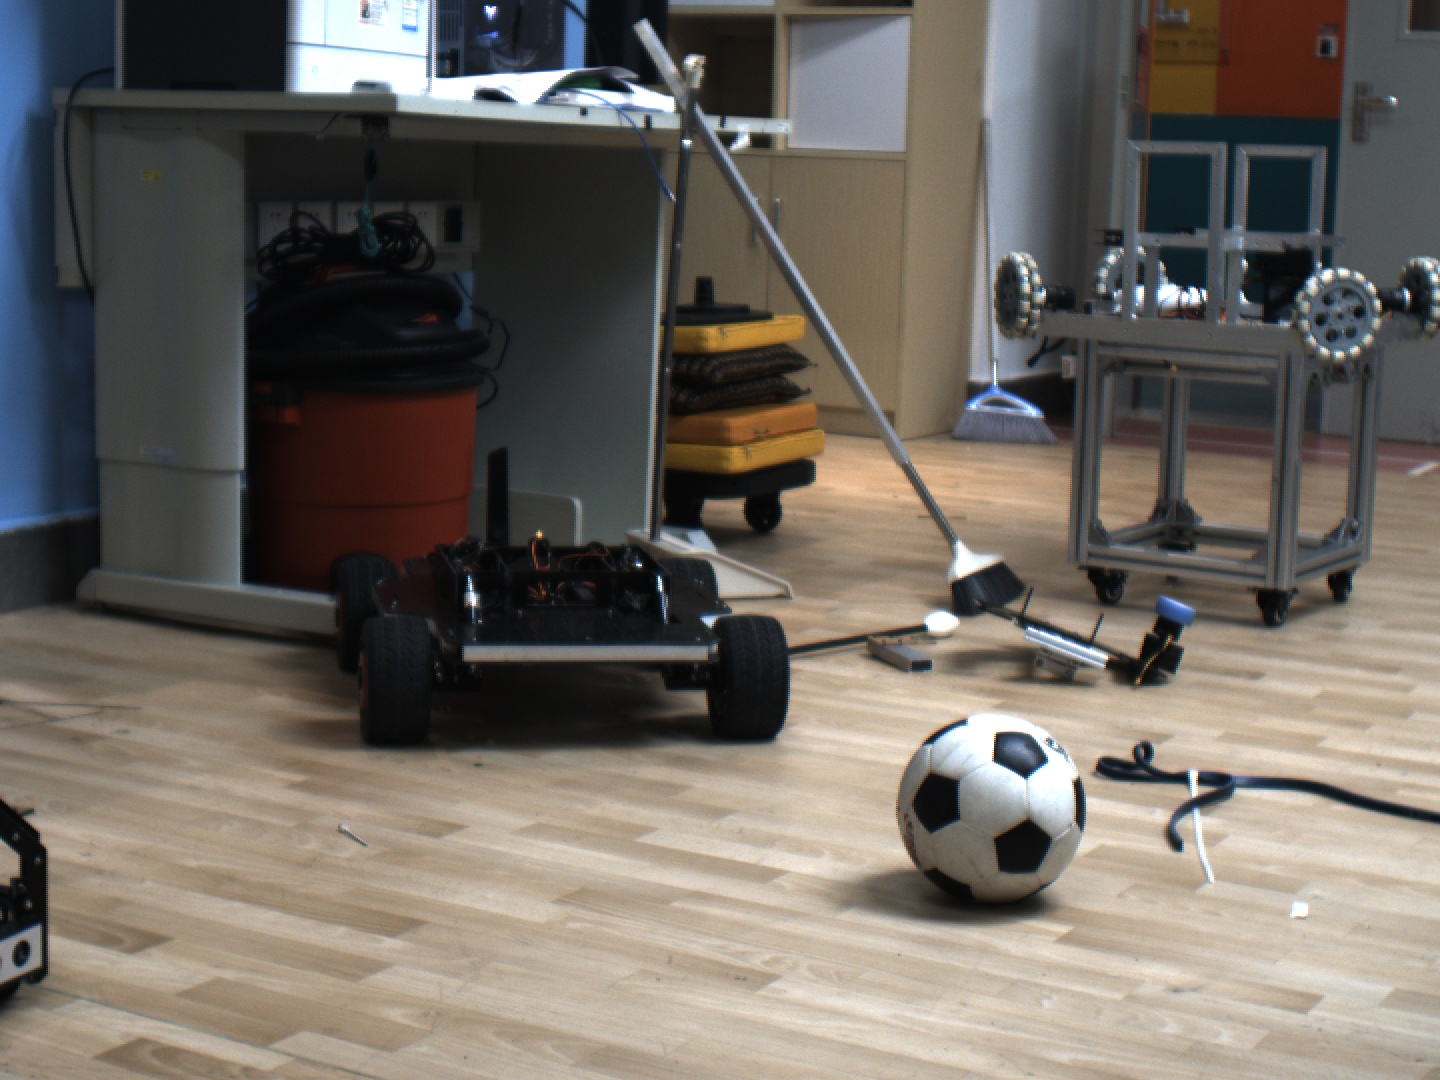ball: (886, 697, 1109, 913)
